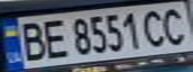1: (121, 9, 142, 51)
5: (103, 11, 127, 52), (87, 12, 109, 54)
8: (69, 15, 93, 56)
B: (15, 18, 51, 62)
C: (157, 4, 193, 46), (139, 7, 172, 48)
E: (36, 16, 69, 60)
